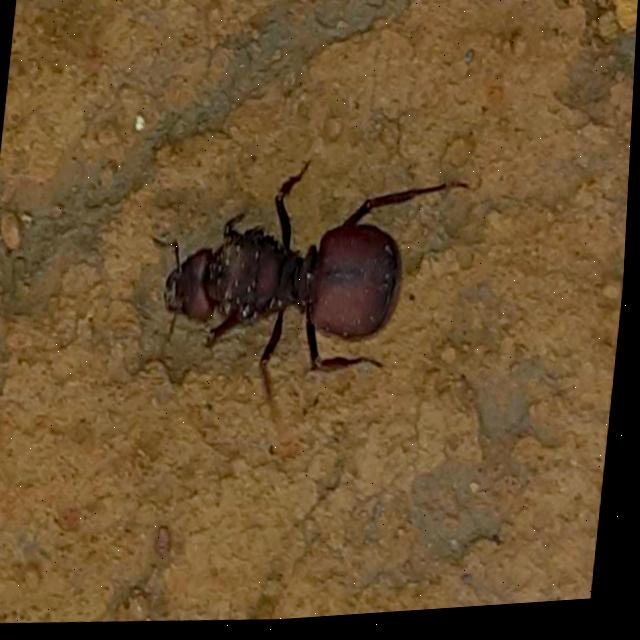Alive-Female-Dealate: (137, 146, 477, 445)
